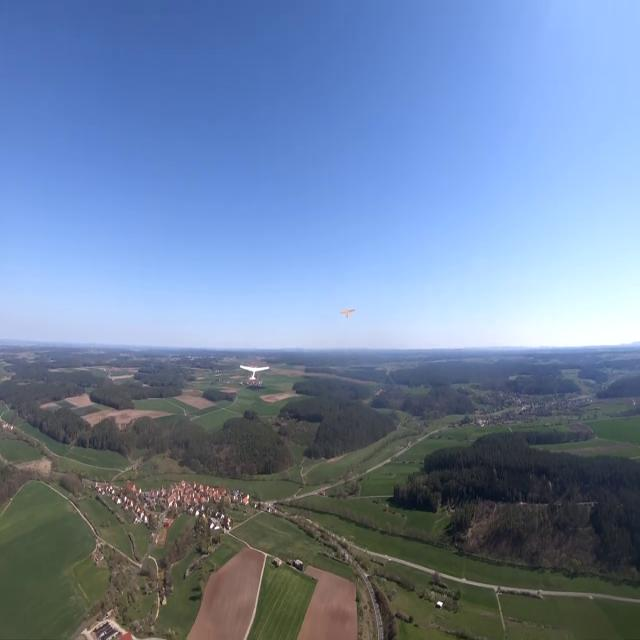iha: (239, 364, 271, 384), (340, 310, 357, 315)
